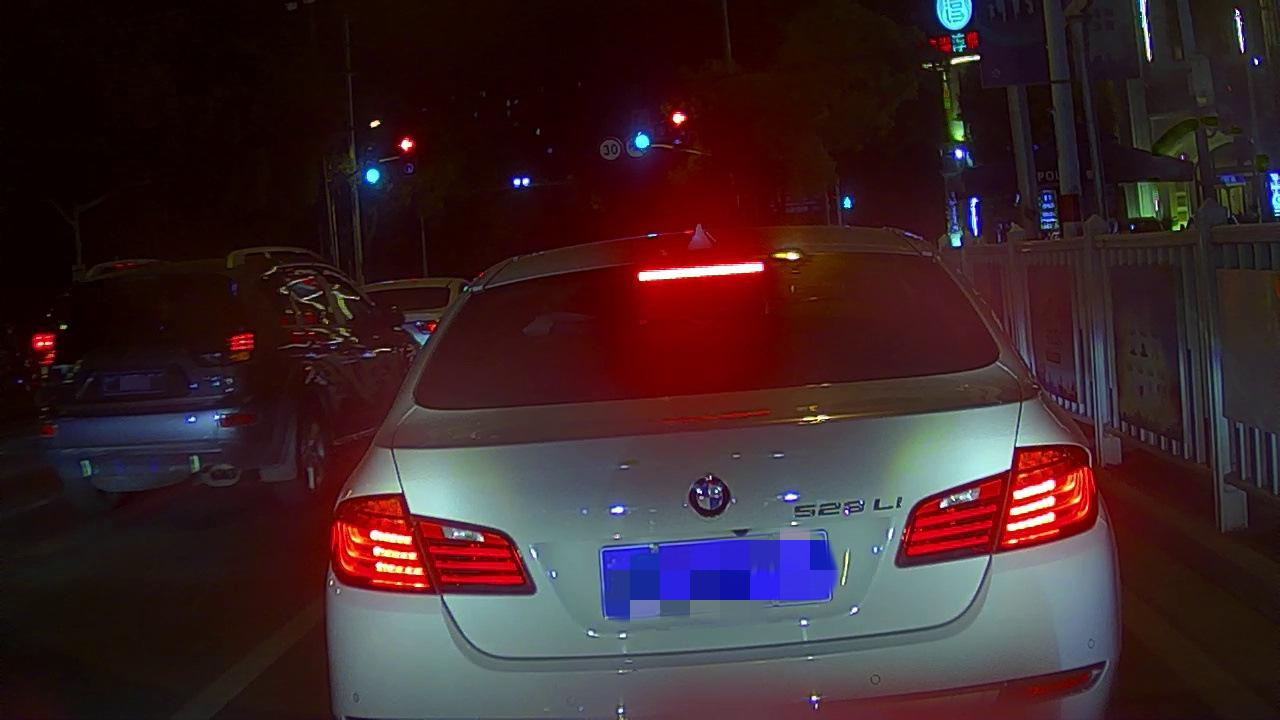traffic_light: (628, 128, 655, 154), (360, 161, 384, 189), (394, 131, 418, 156), (668, 105, 690, 130)
